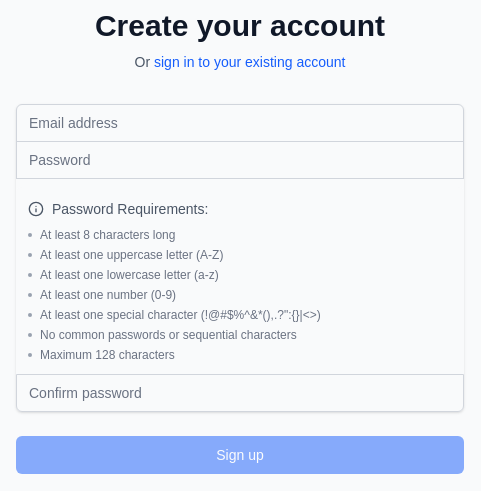
Test: SignUp Page › should show error when registration fails
The image size is (481, 491).
Type "test@example.com" into the field with placeholder "Email address". click: (240, 123)
box: [16,104,464,142]
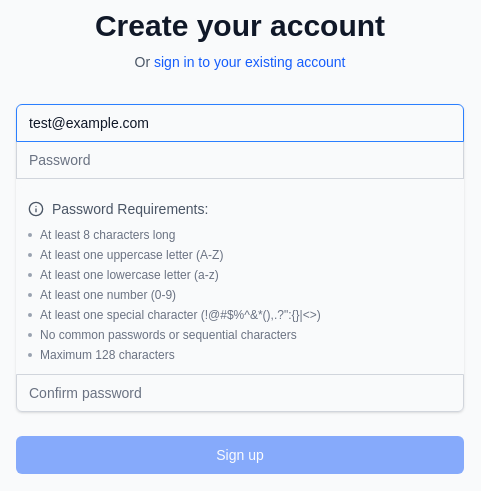
Type "MySecure2024#Pass" into the password field with placeholder "Password". click: (240, 160)
box: [16,141,464,179]
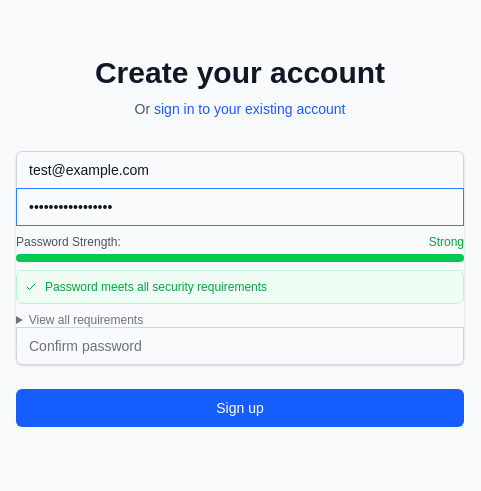
Type "MySecure2024#Pass" into the password field with placeholder "Confirm password". click: (240, 346)
box: [16,327,464,365]
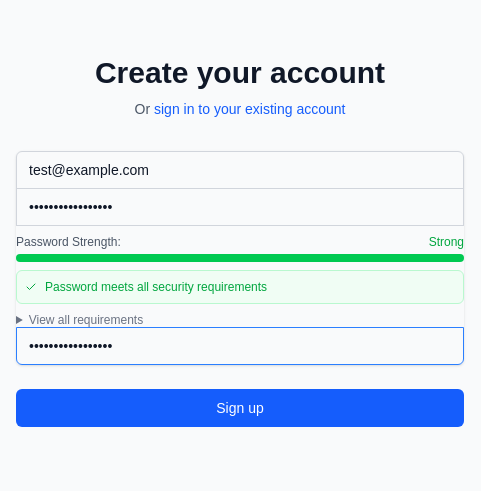
Check: the text "Strong" is shown, box [429,234,464,250]
Click the button "Sign up". click: click(240, 408)
box: [16,389,464,427]
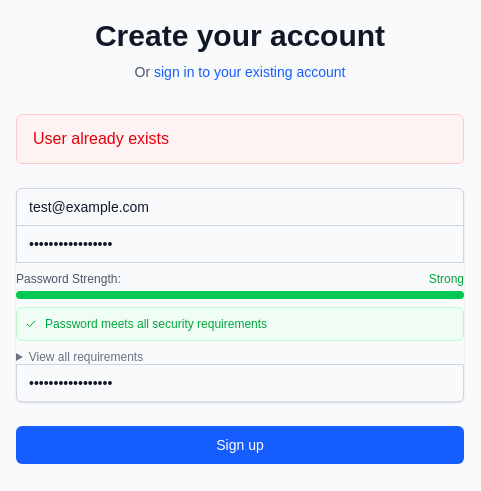
Check: the text "User already exists" is shown, box [16,114,464,164]
